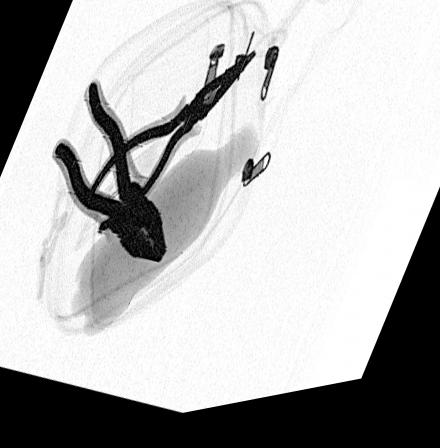Pliers: (83, 52, 257, 242), (52, 77, 171, 275)
